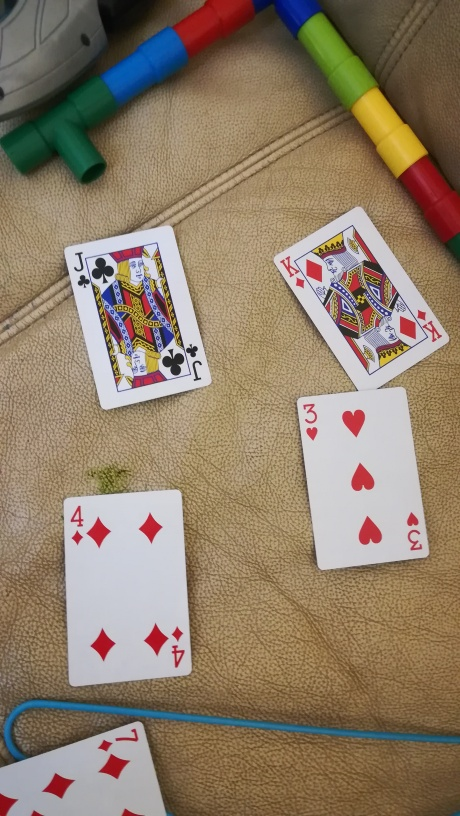fk 4: (43, 484, 201, 690)
fk 7: (4, 704, 163, 816)
fk k: (261, 204, 456, 397)
hx 3: (292, 387, 435, 588)
mh j: (61, 223, 218, 429)
